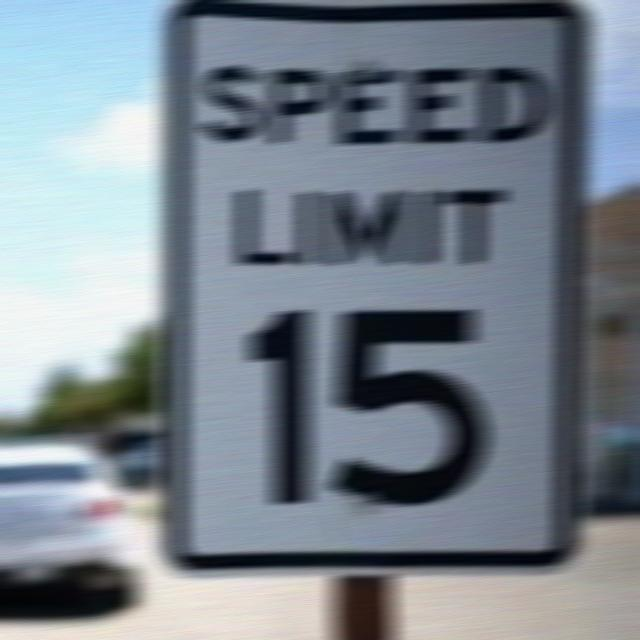speedLimit15: (155, 12, 593, 574)
